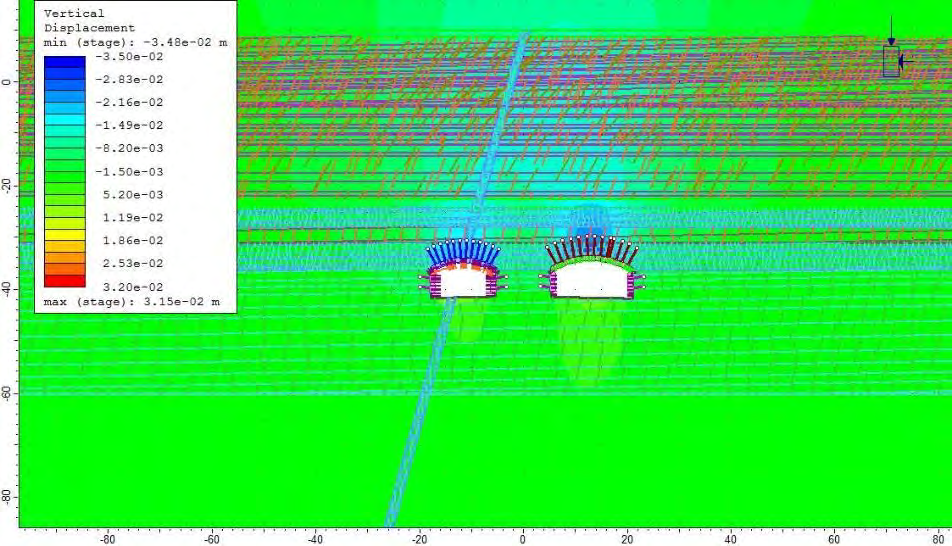crown: (454, 245, 475, 257), (582, 245, 605, 254)
label: (35, 0, 236, 314)
tunnel-opening: (550, 256, 634, 296), (429, 259, 497, 297)
